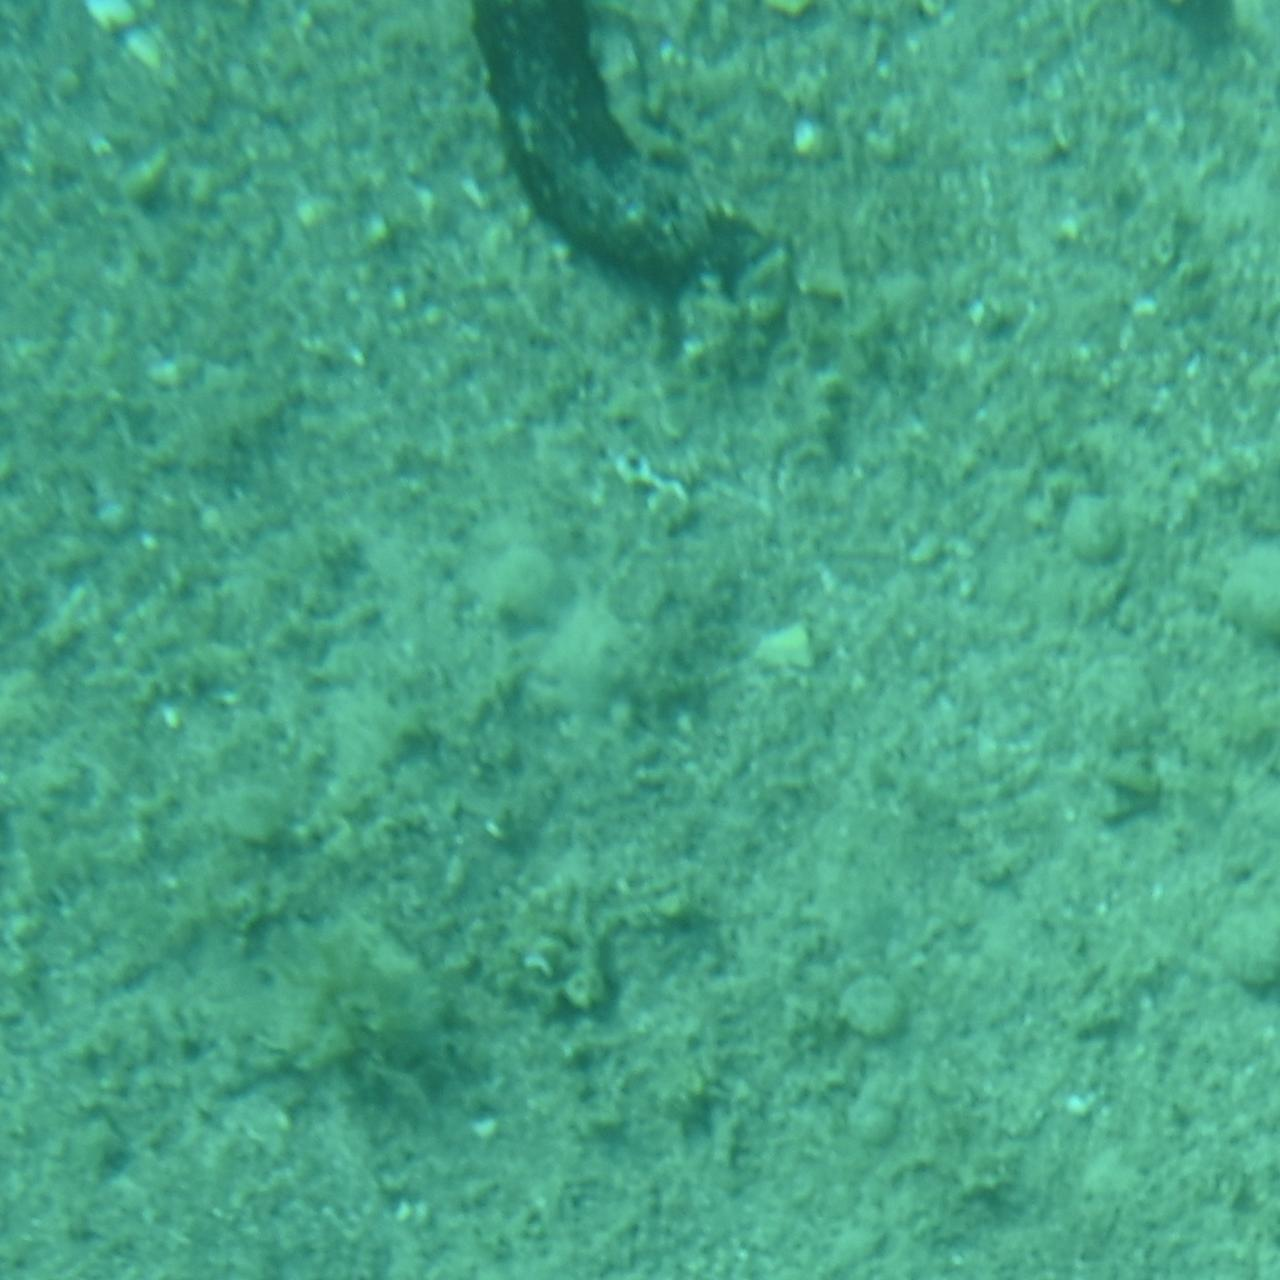Holothuria tubulosa: (466, 0, 814, 308)
